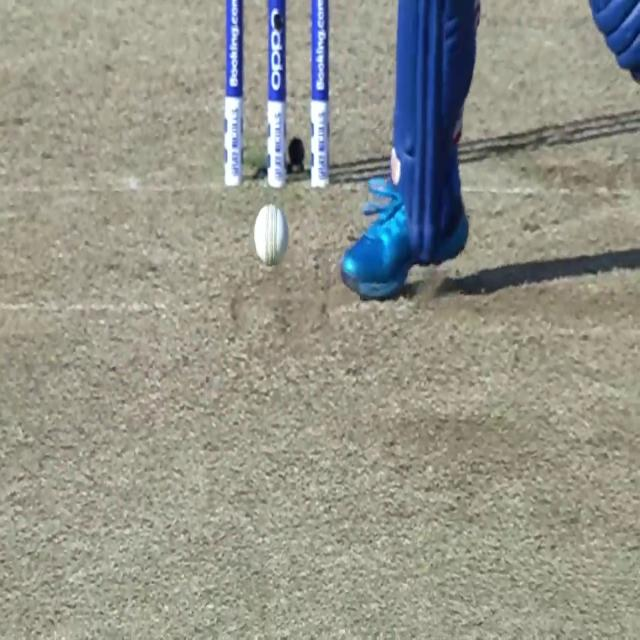ball: (255, 204, 288, 268)
